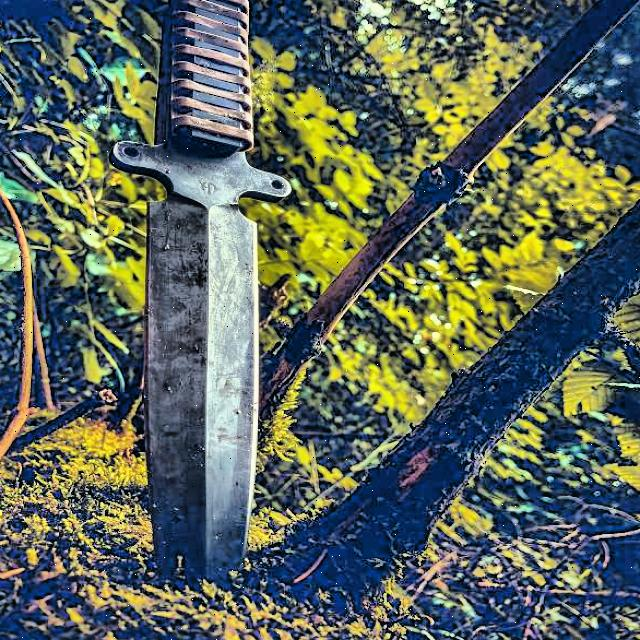knife: (119, 0, 304, 592)
